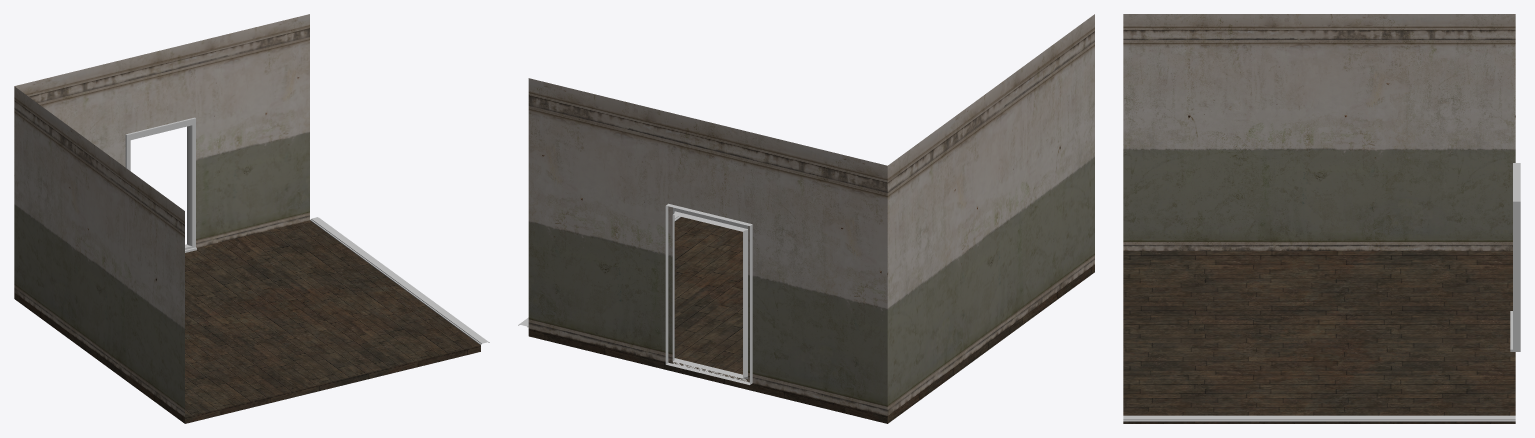
File: hallway_end_corner_door_right.fbx
3 renders of one model, left to right at view 1: azimuth 30°, elevation 25°; view 2: azimuth 150°, elevation 25°; view 3: azimuth 270°, elevation 25°, orthographic. The views are drawn at different scales.
Visible parts, largest first — view 1: hallway_end_corner_door_right; view 2: hallway_end_corner_door_right; view 3: hallway_end_corner_door_right.
Part boxes in pixels (box(x1,y1,x2,y2)): hallway_end_corner_door_right: box(14, 14, 489, 423); hallway_end_corner_door_right: box(518, 14, 1094, 423); hallway_end_corner_door_right: box(1123, 14, 1520, 423).
Size of the model in its own units: 618 by 412 by 608.
